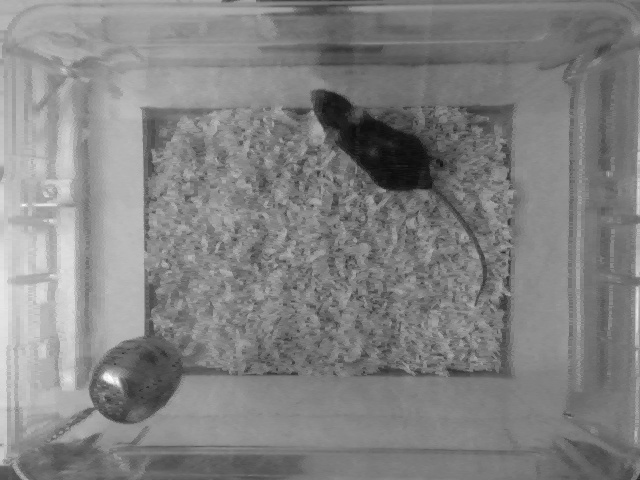mice: (305, 86, 493, 310)
